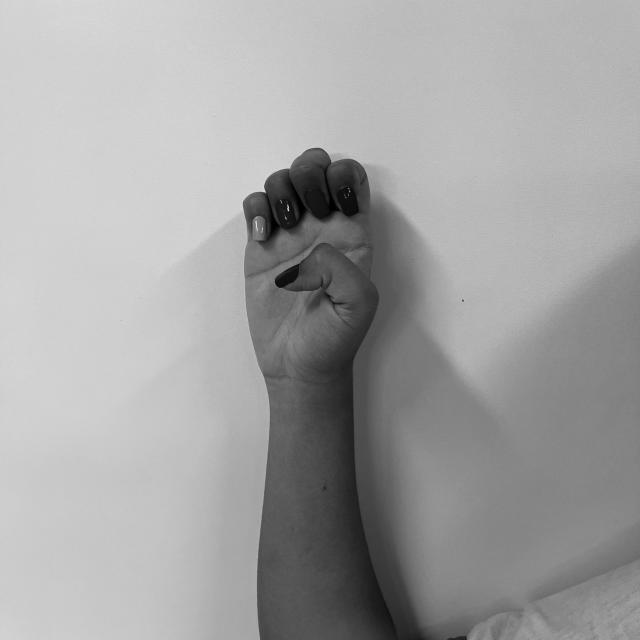Letra E: (234, 142, 385, 382)
